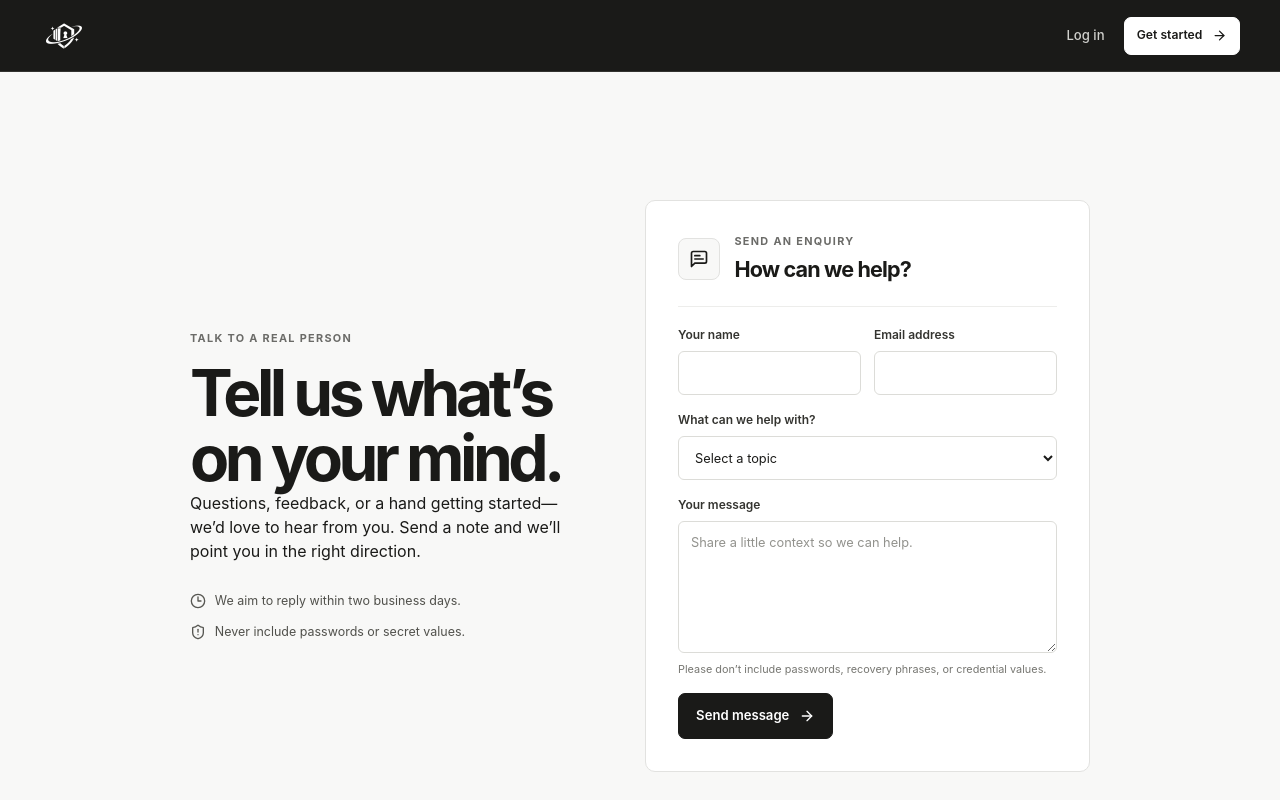
Scenario: Company pages › shows an error when the contact request fails
Type "Alex" into the field labelled "Your name" at (770, 373), box [678,351,861,395]
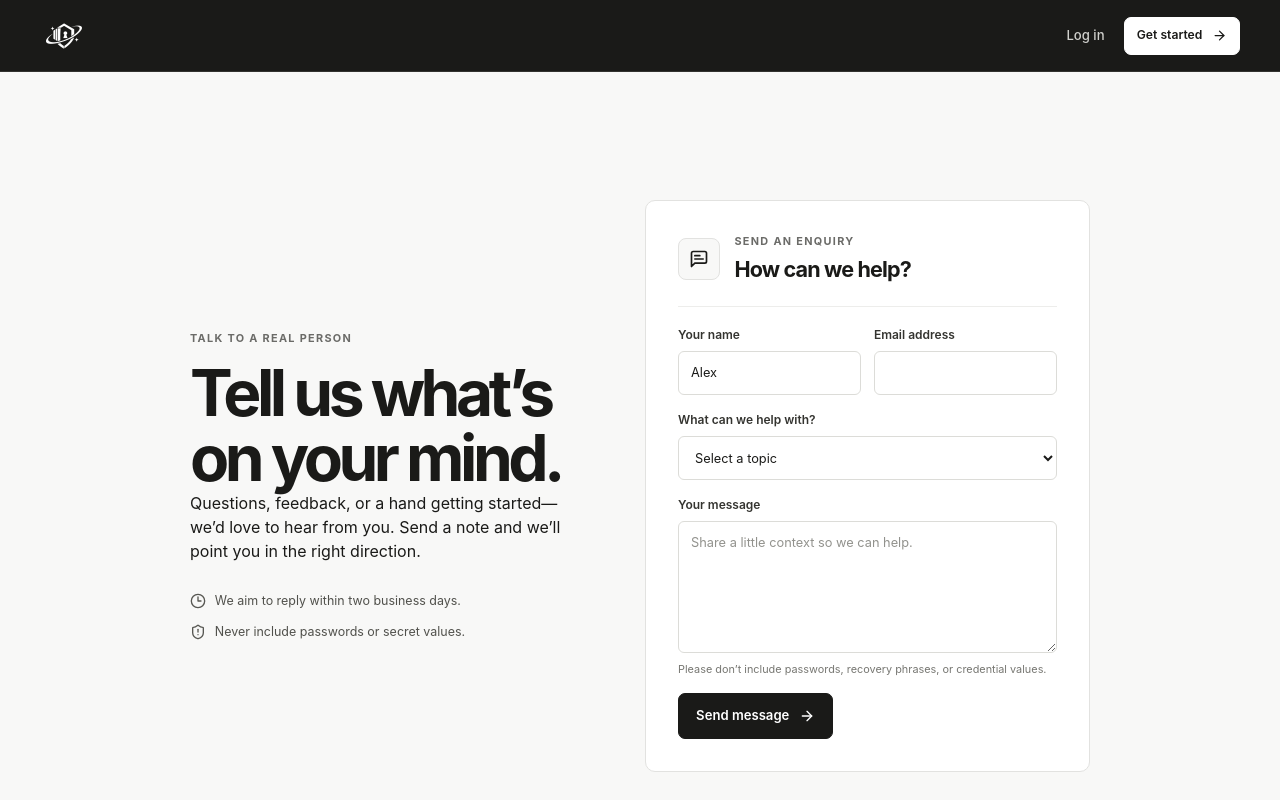
Type "alex@example.com" into the field labelled "Email address" at (965, 373), box [874,351,1057,395]
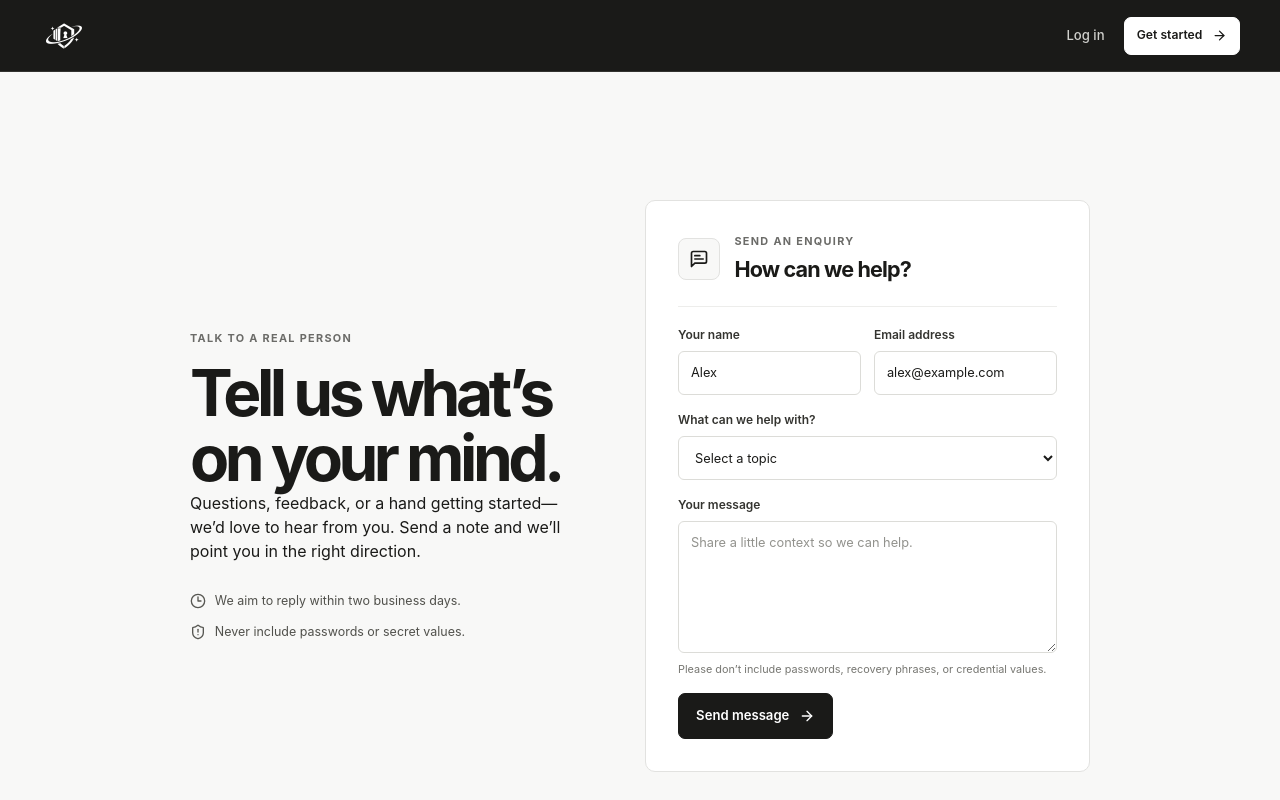
Select "General question" in the dropdown labelled "What can we help with?" at (868, 458), box [678,436,1057,480]
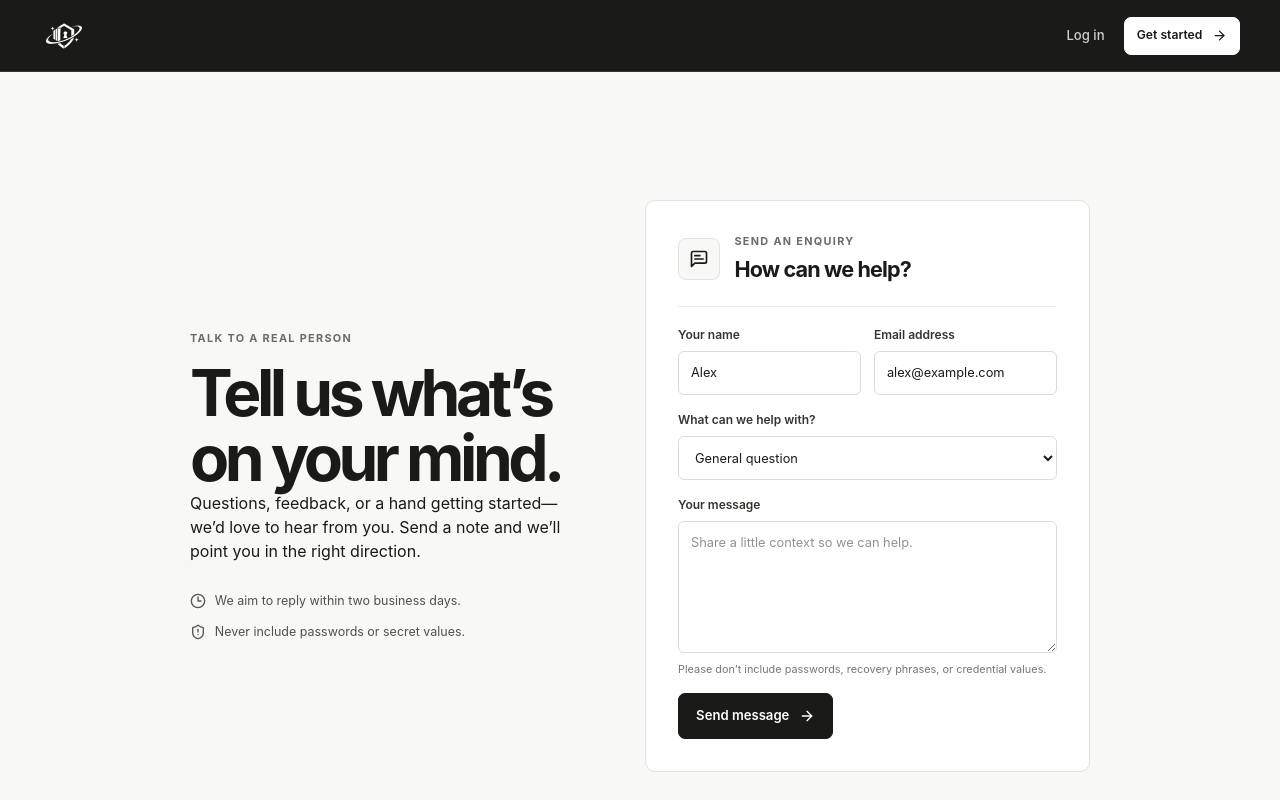
Type "I would like to learn more about Vaultnary." into the text box labelled "Your message" at (868, 588), box [678,522,1057,654]
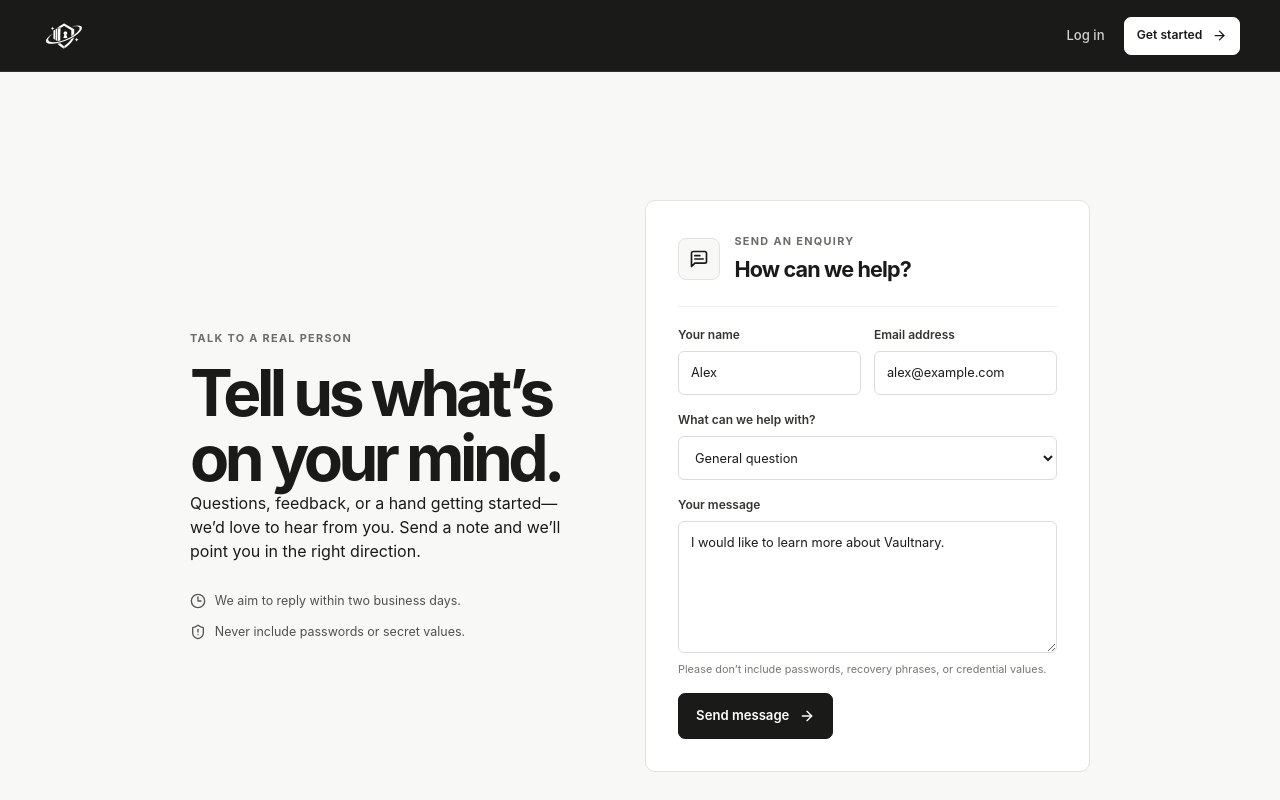
Click the button "Send message" at (756, 716), box [678,693,833,739]
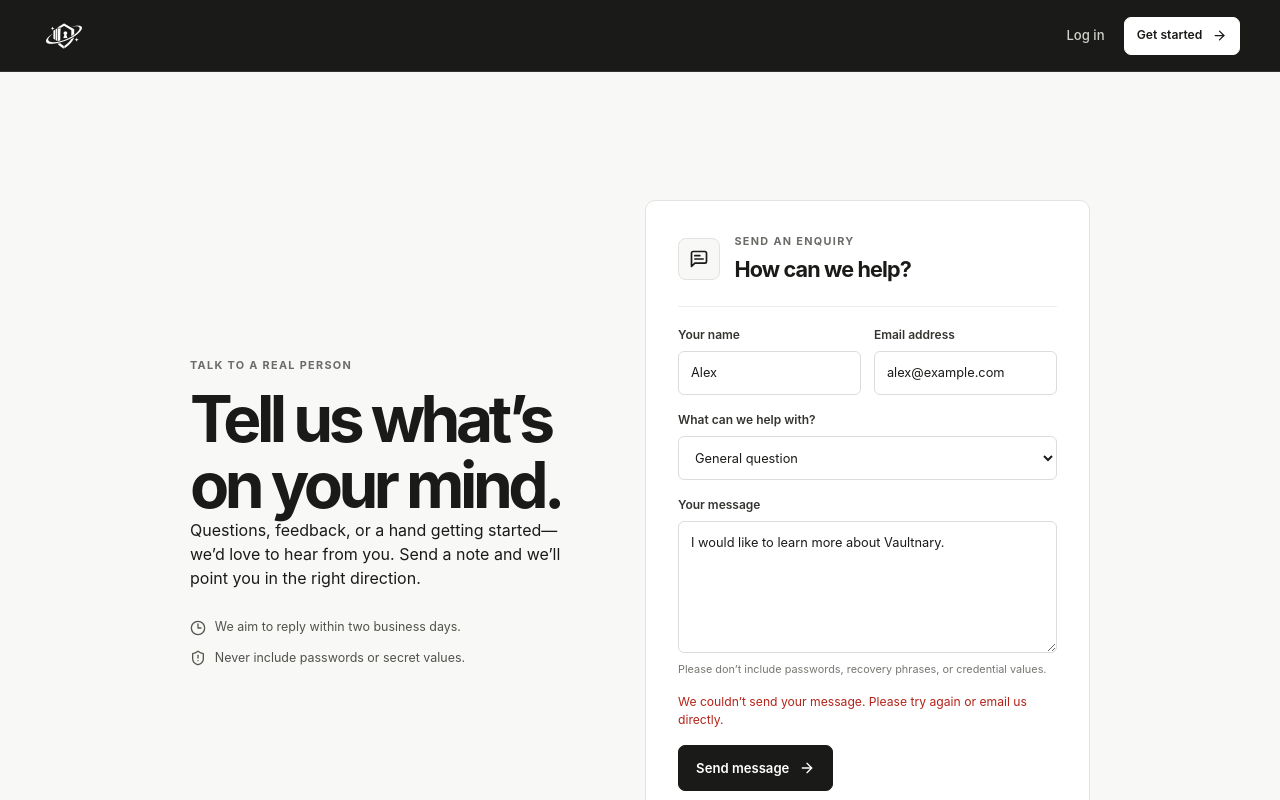
Check: the message shows "We couldn’t send your message.", box [678,694,1027,727]
